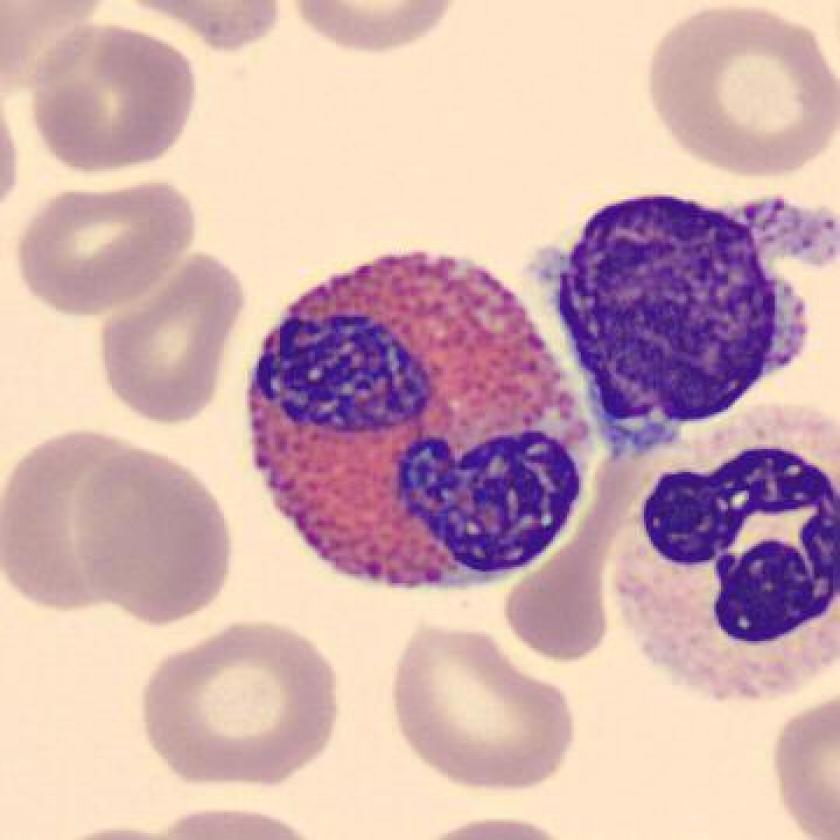eosinophil: (235, 230, 613, 607)
